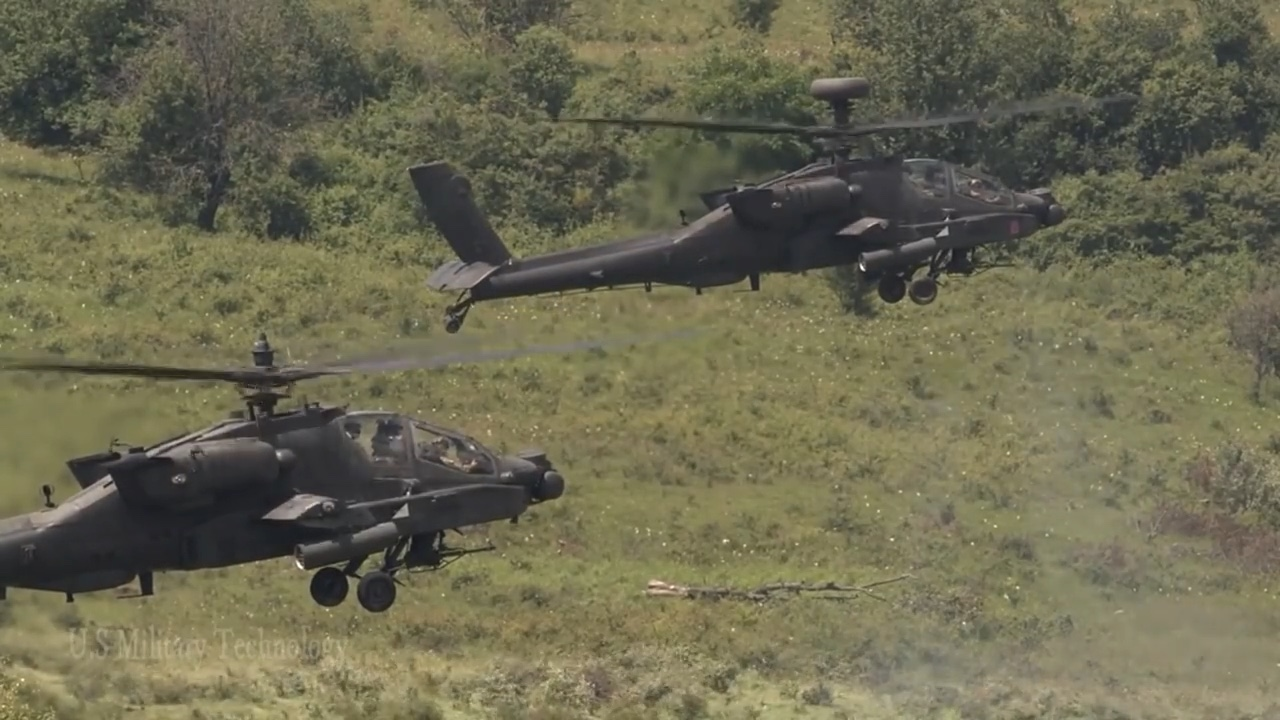ah64: (1, 318, 709, 615), (402, 75, 1176, 341)
